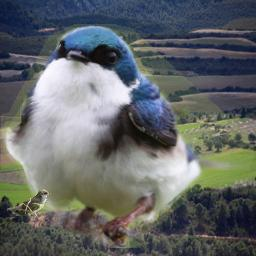Cuckoo: (7, 189, 52, 216)
Swallow: (1, 24, 256, 248)
